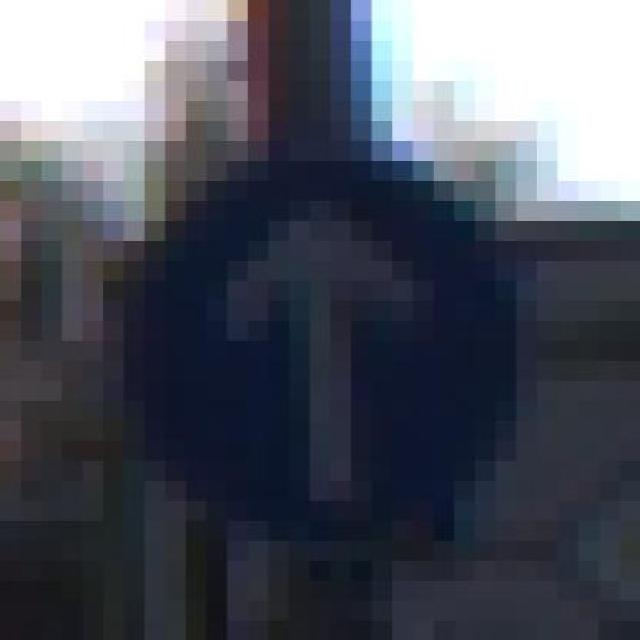Straight Ahead Only: (82, 160, 558, 540)
